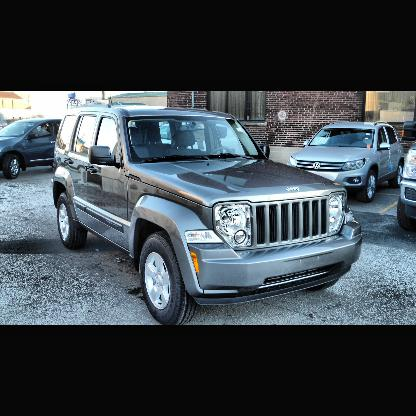Jeep Liberty SUV 2012: (52, 100, 364, 325)
